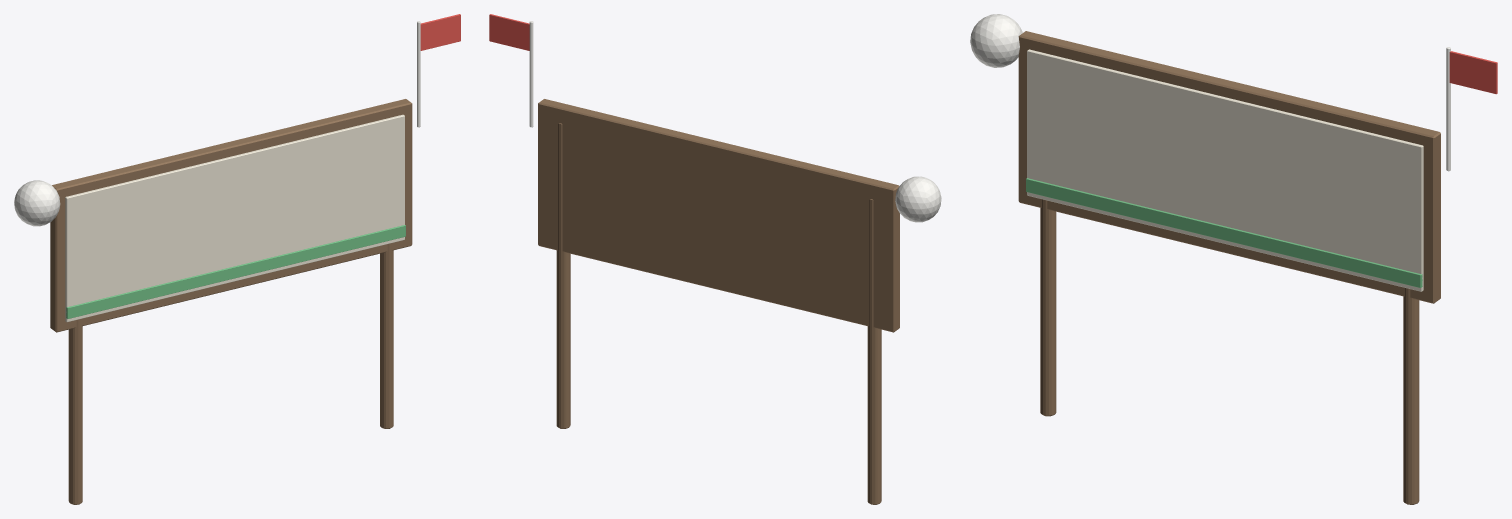
3 renders of one model, left to right at view 1: azimuth 30°, elevation 25°; view 2: azimuth 150°, elevation 25°; view 3: azimuth 330°, elevation 25°, orthographic. The views are drawn at different scales.
Visible parts, largest first — view 1: LogoBoard; view 2: LogoBoard; view 3: LogoBoard.
Part boxes in pixels (x1,y1,x2,y2): LogoBoard: (14,14,460,504); LogoBoard: (489,14,941,504); LogoBoard: (970,14,1497,504).
Bounding box in the file's own units: 4.88 × 4.15 × 0.44.
